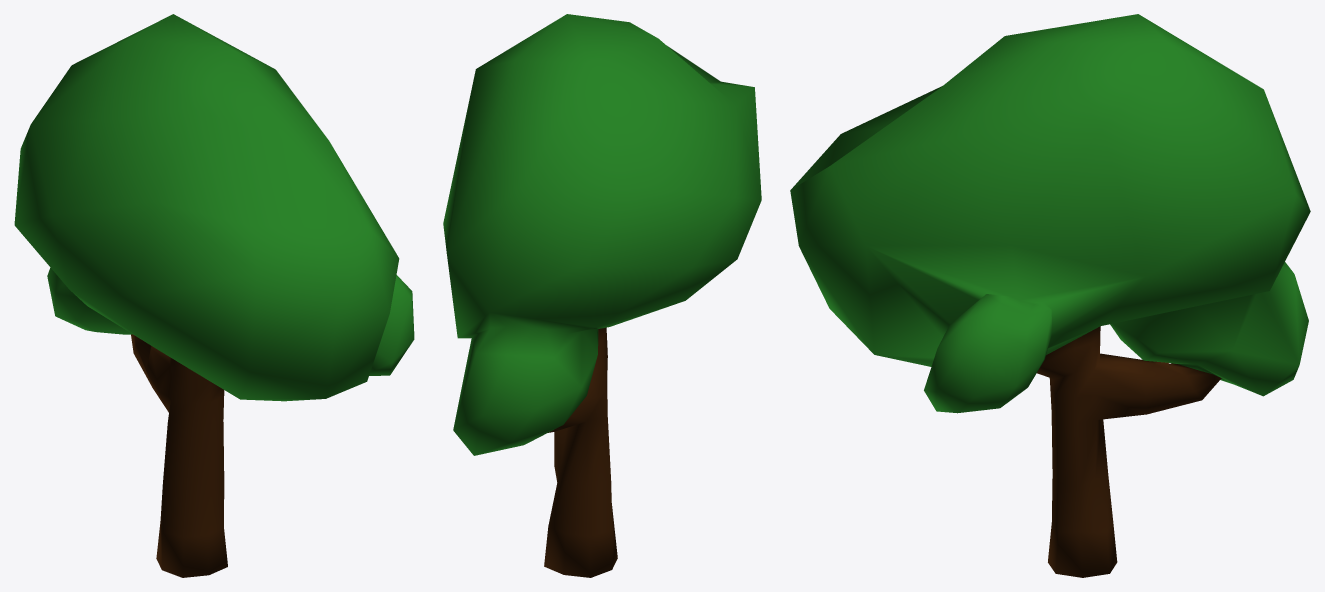
Rendered from tree.gltf.
3 renders of one model, left to right at view 1: azimuth 30°, elevation 25°; view 2: azimuth 150°, elevation 25°; view 3: azimuth 270°, elevation 25°, orthographic. The views are drawn at different scales.
Parts seen in each view (by area): view 1: Cube; view 2: Cube; view 3: Cube.
Part boxes in pixels (bbox=[...]): Cube: bbox=[14, 14, 414, 577]; Cube: bbox=[443, 14, 761, 577]; Cube: bbox=[790, 14, 1310, 577].
Bounding box in the file's own units: 1.22 × 1.95 × 1.73.
1 material, 1 textured.
